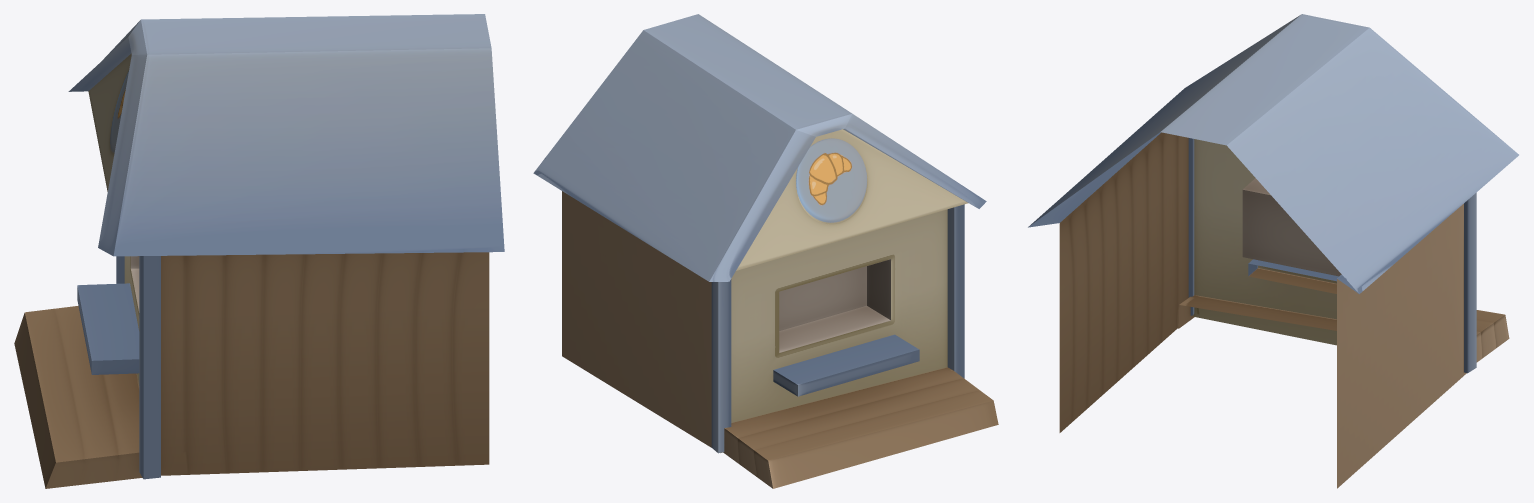
File: bakery_mesh.gltf
3 views of the same model, side by side, from view 1: azimuth 30°, elevation 25°; view 2: azimuth 150°, elevation 25°; view 3: azimuth 270°, elevation 25° (orthographic). The views are drawn at different scales.
Parts seen in each view (by area): view 1: bakery_mesh; view 2: bakery_mesh; view 3: bakery_mesh.
Boxes of the visible parts, x1,y1,x2,y2 form: bakery_mesh: (14,14,504,488); bakery_mesh: (533,14,998,488); bakery_mesh: (1028,14,1518,488).
Size of the model in its own units: 4.75 by 3.4 by 4.51.
1 material, 1 textured.
